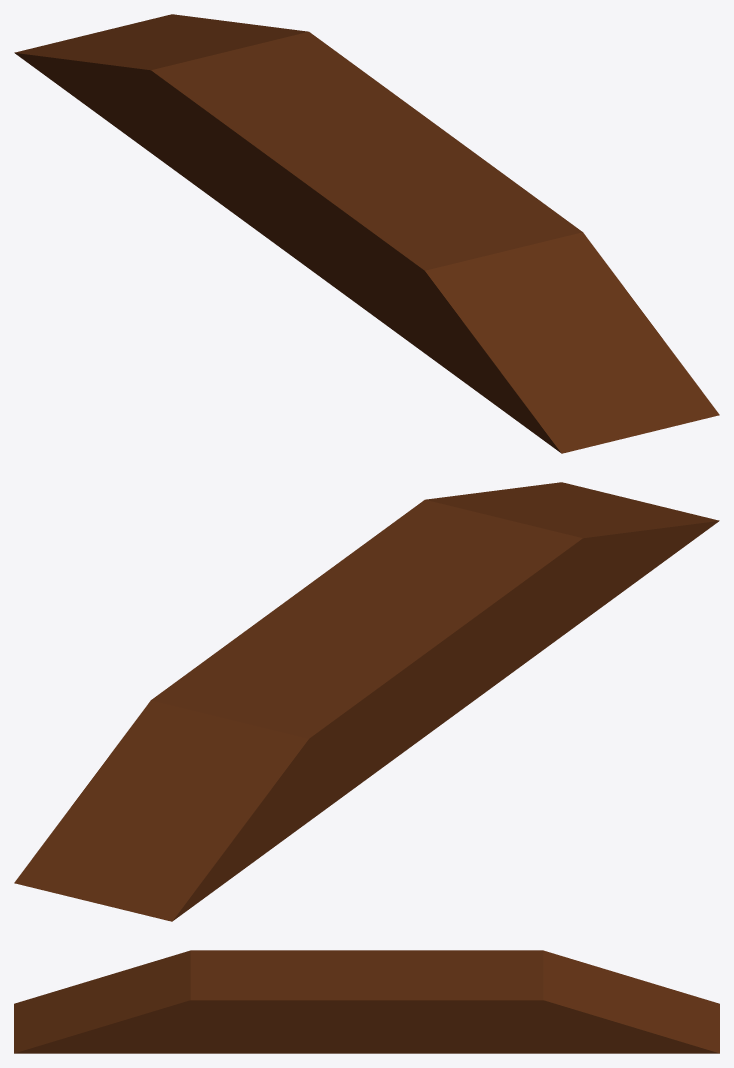
File: ramp2.fbx
3 renders of one model, top to bottom at view 1: azimuth 30°, elevation 25°; view 2: azimuth 150°, elevation 25°; view 3: azimuth 270°, elevation 25°, orthographic. The views are drawn at different scales.
Parts seen in each view (by area): view 1: Ramp 2; view 2: Ramp 2; view 3: Ramp 2.
Boxes of the visible parts, x1=… form: Ramp 2: x1=14, y1=14, x2=719, y2=453; Ramp 2: x1=14, y1=482, x2=719, y2=921; Ramp 2: x1=14, y1=950, x2=719, y2=1053.
Size of the model in its own units: 200 by 100 by 1200.
